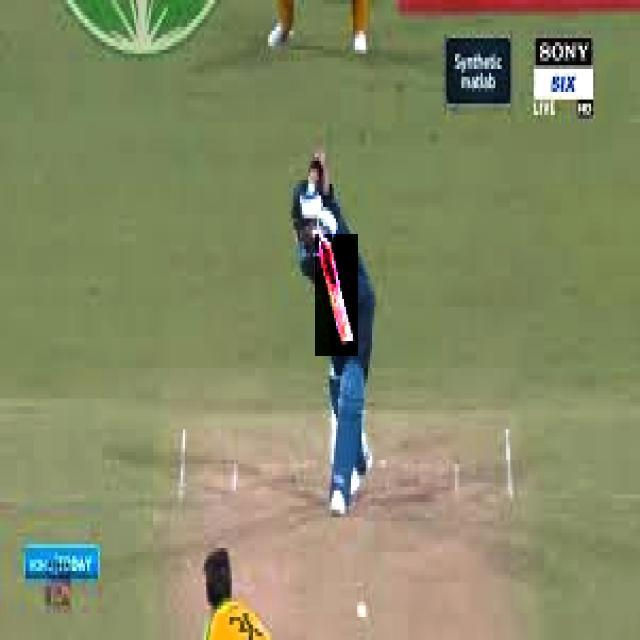bat: (317, 233, 367, 357)
toe: (320, 326, 362, 347)
